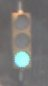Green: (7, 8, 35, 76)
